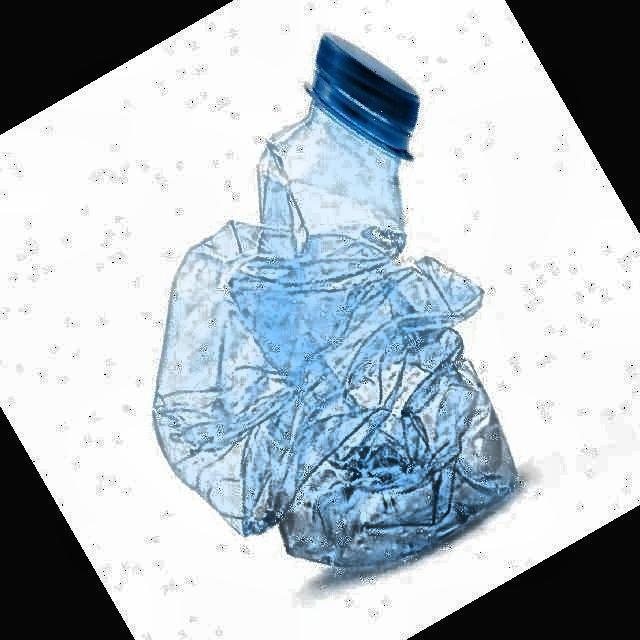plastic: (154, 34, 516, 566)
